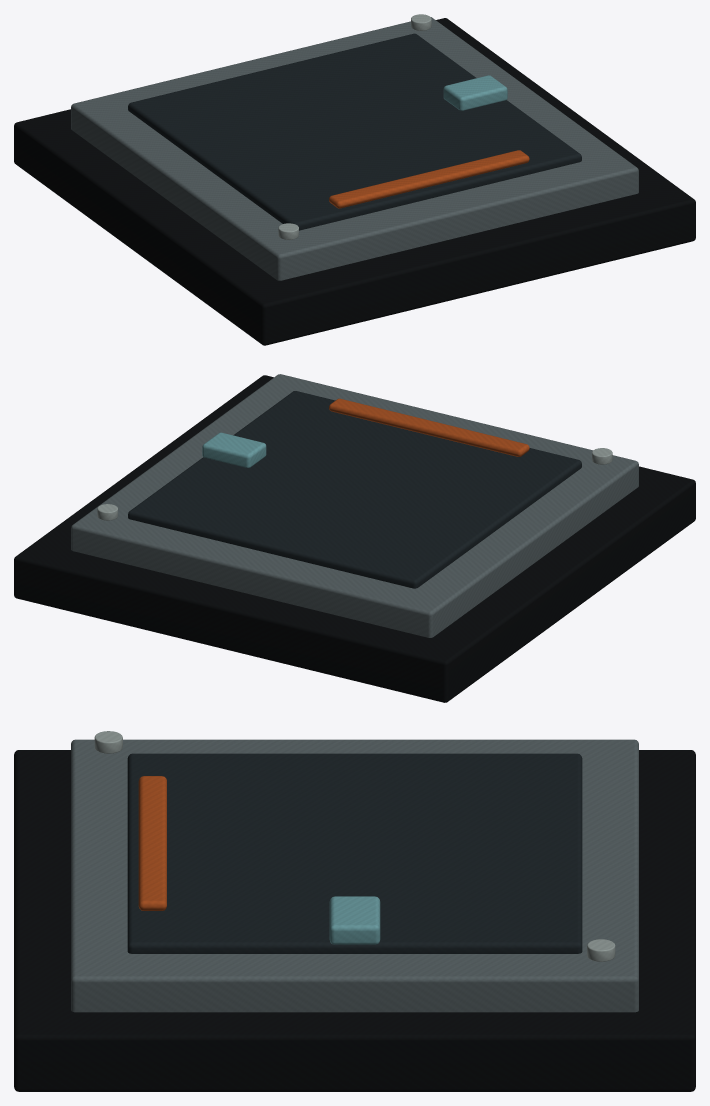
Rendered from FloorServiceHatch.fbx.
3 views of the same model, one above another, from view 1: azimuth 30°, elevation 25°; view 2: azimuth 150°, elevation 25°; view 3: azimuth 270°, elevation 25° (orthographic). The views are drawn at different scales.
Parts seen in each view (by area): view 1: FloorServiceHatch_Mesh; view 2: FloorServiceHatch_Mesh; view 3: FloorServiceHatch_Mesh.
Part boxes in pixels (<box>): FloorServiceHatch_Mesh: <box>14,14,695,345</box>; FloorServiceHatch_Mesh: <box>14,374,695,702</box>; FloorServiceHatch_Mesh: <box>14,731,695,1091</box>.
Bounding box in the file's own units: 108 × 20.75 × 108.
Materials: 6 (6 with a texture image).
